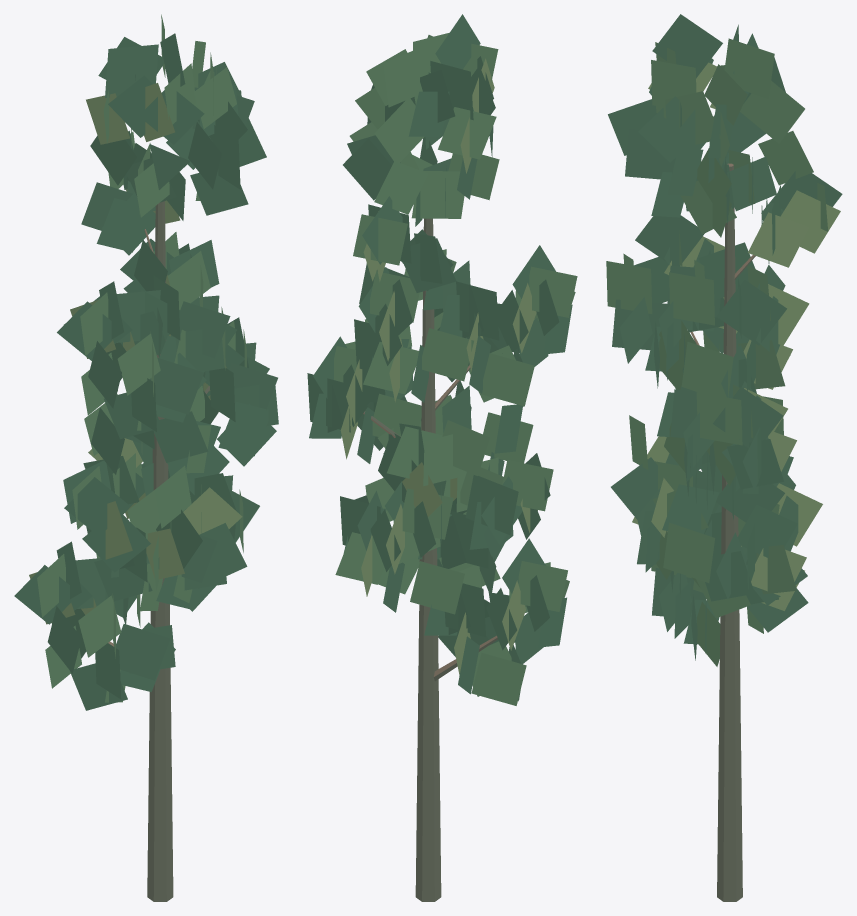
File: lightkeeper-tree.glb
3 renders of one model, left to right at view 1: azimuth 30°, elevation 25°; view 2: azimuth 150°, elevation 25°; view 3: azimuth 270°, elevation 25°, orthographic.
Parts seen in each view (by area): view 1: canopy, trunk; view 2: canopy, trunk; view 3: canopy, trunk.
Part boxes in pixels (<box>): canopy: <box>14,14,278,710</box>; trunk: <box>108,201,209,901</box>; canopy: <box>307,14,577,705</box>; trunk: <box>363,218,497,901</box>; canopy: <box>606,14,842,666</box>; trunk: <box>690,163,755,901</box>.
Size of the model in its own units: 0.2969 by 0.9987 by 0.2435.
